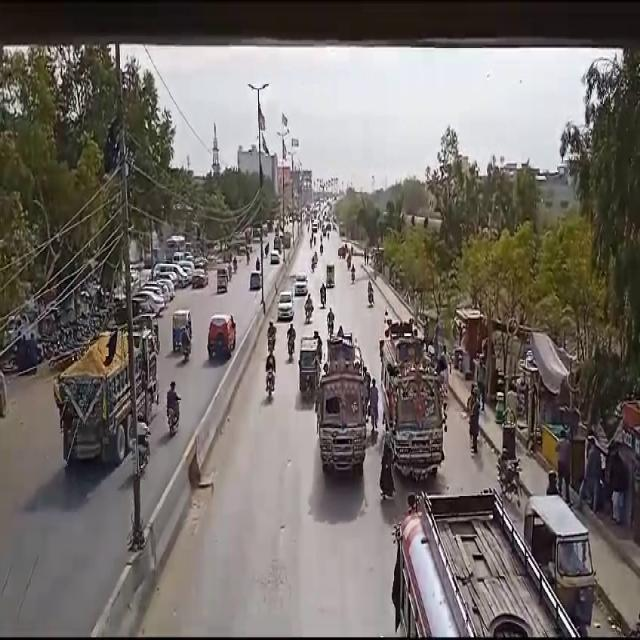motorbike: (163, 379, 181, 437), (265, 345, 277, 400)
truck: (51, 314, 160, 472)
